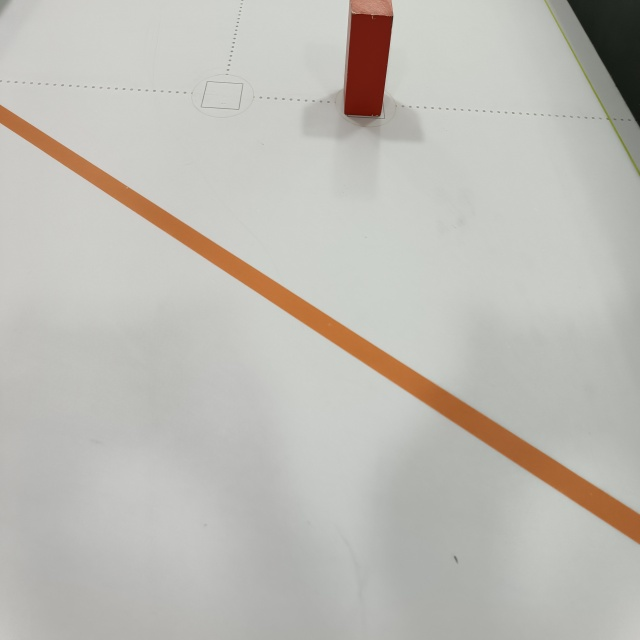orange line: (1, 104, 640, 546)
red rectangular prism: (340, 0, 398, 115)
